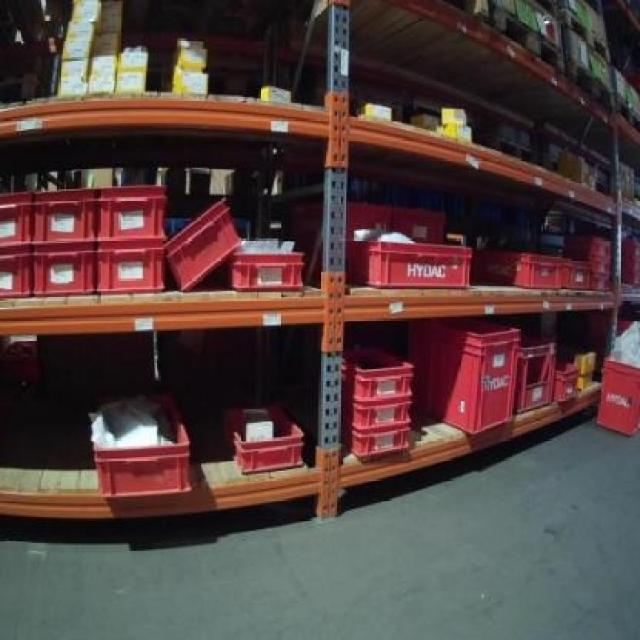pallets: (408, 318, 515, 431), (89, 394, 188, 492), (342, 346, 411, 455), (163, 197, 237, 288), (348, 238, 469, 285), (225, 405, 300, 471), (595, 357, 637, 432)
